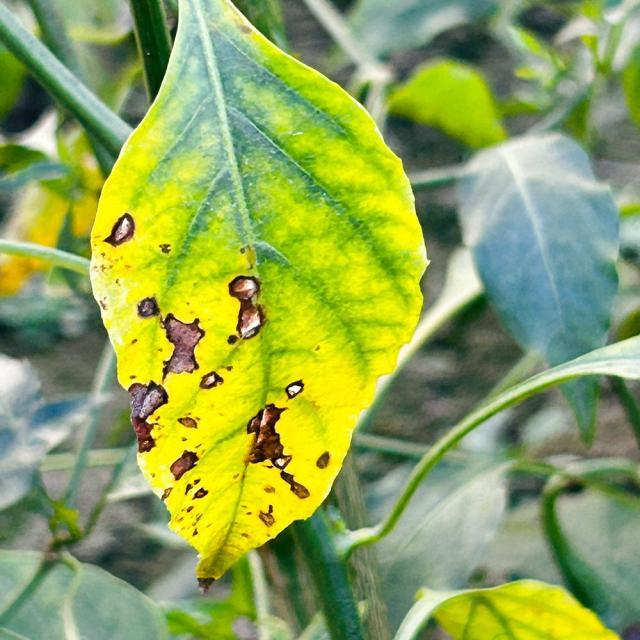Bercak Daun Serkospora: (87, 0, 431, 587)
